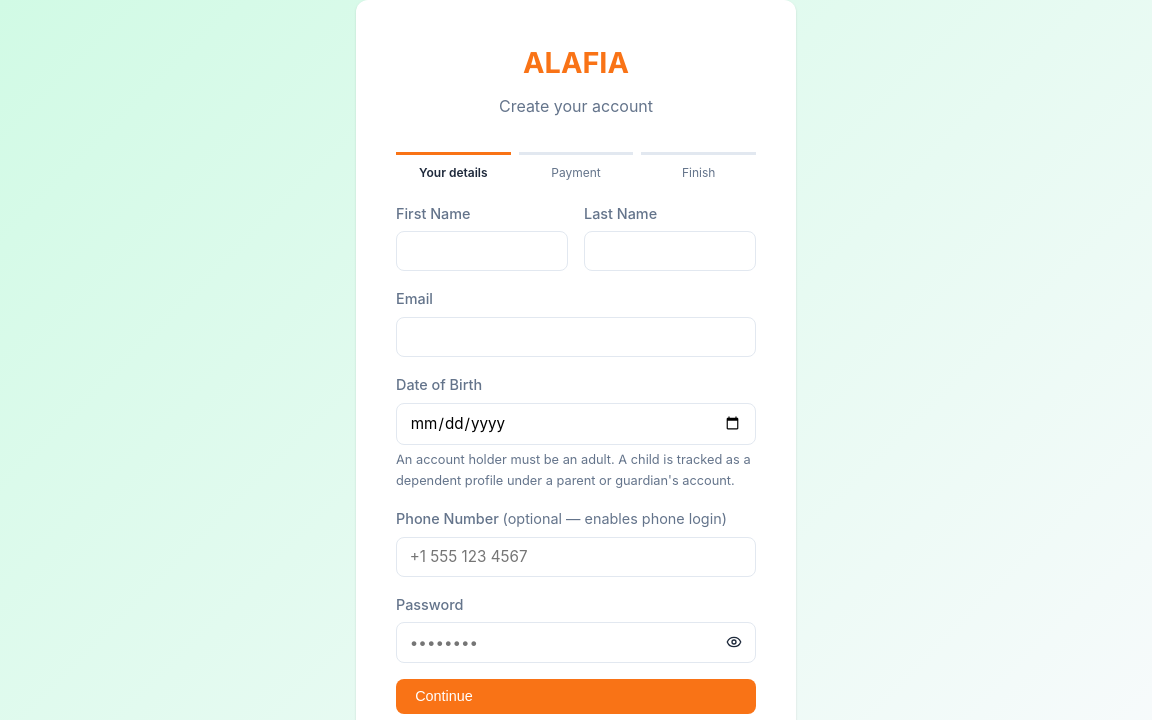
Test: signing up with an address that already has an account › shows any other registration error the same way, minus the sign-in route
The image size is (1152, 720).
Type "Ada" into the field with id "su-first" at (482, 251), box [396,231,568,272]
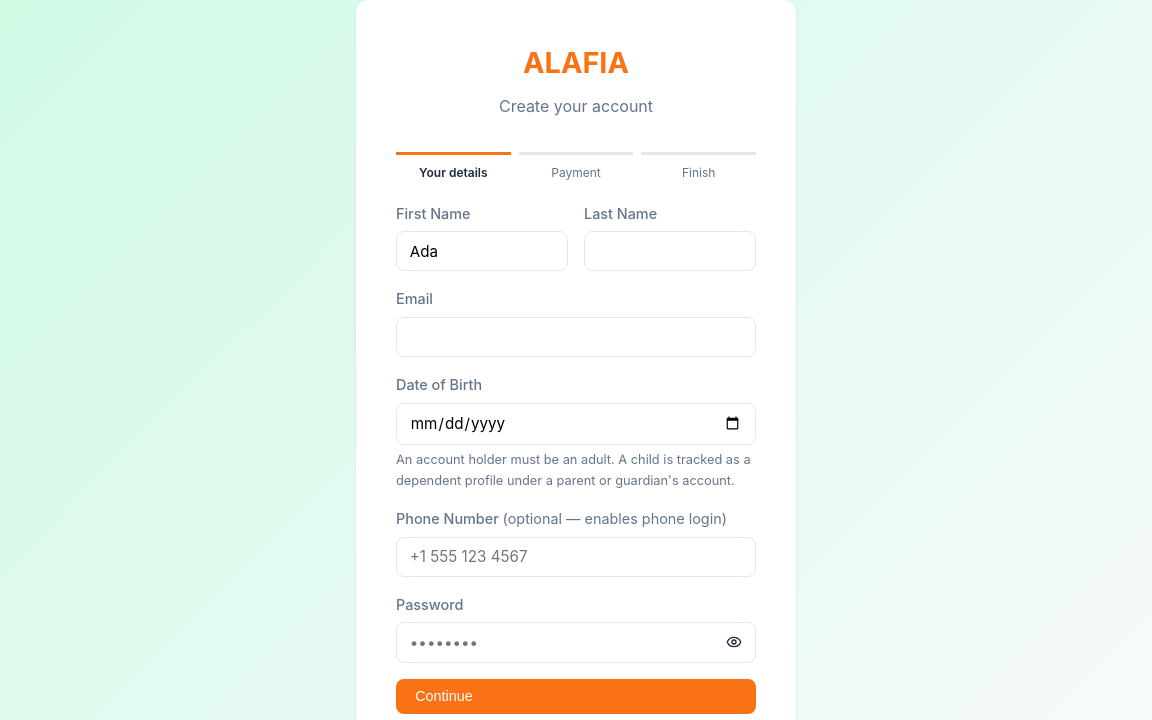
Type "Demo" into the field with id "su-last" at (670, 251), box [584,231,756,272]
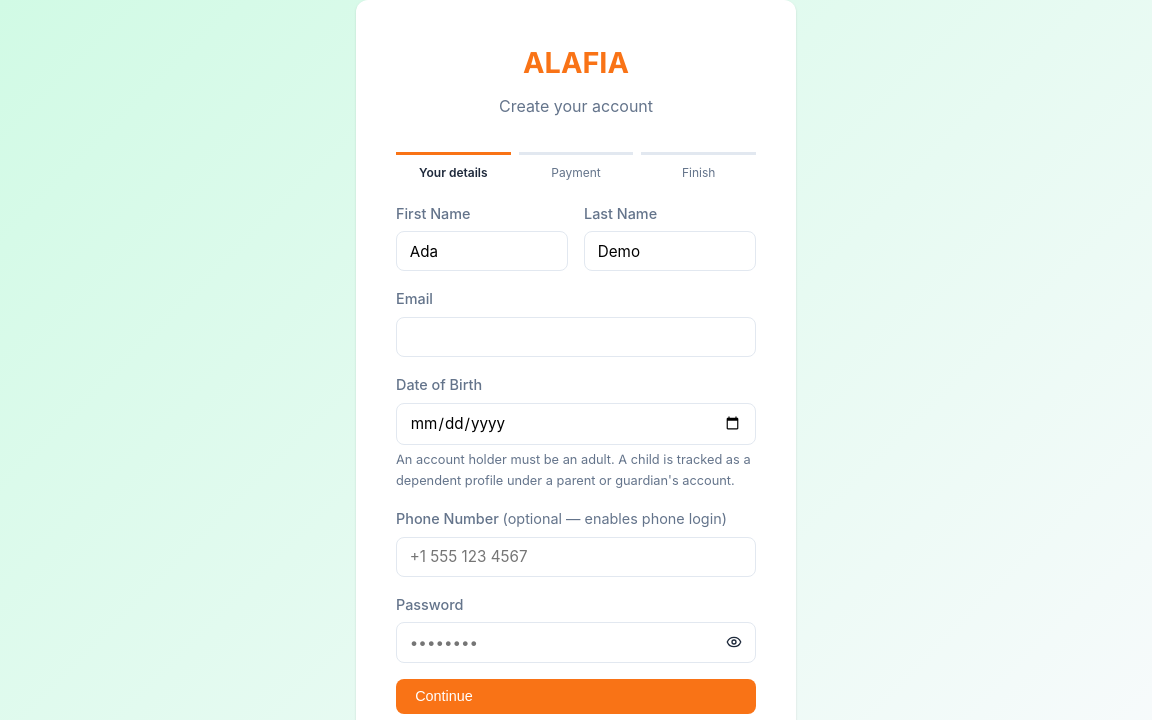
Type "ada@example.com" into the field with id "su-email" at (576, 337), box [396,317,756,357]
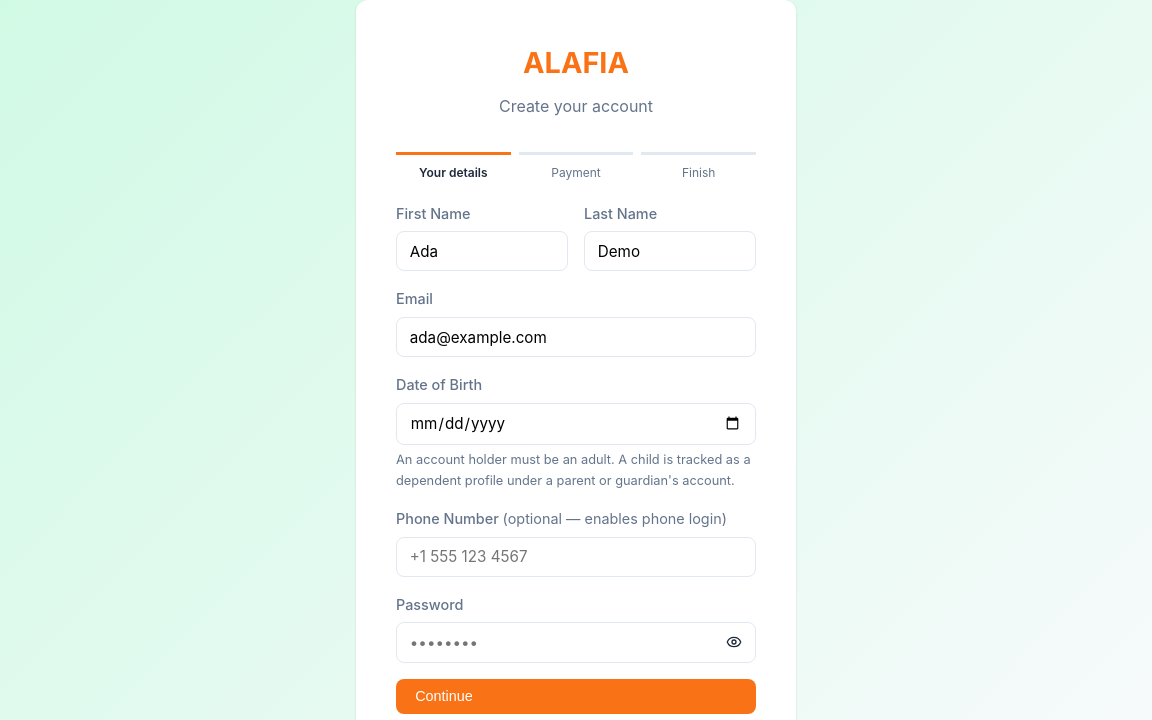
Type "1980-01-01" into the date field with id "su-dob" at (576, 424), box [396,402,756,445]
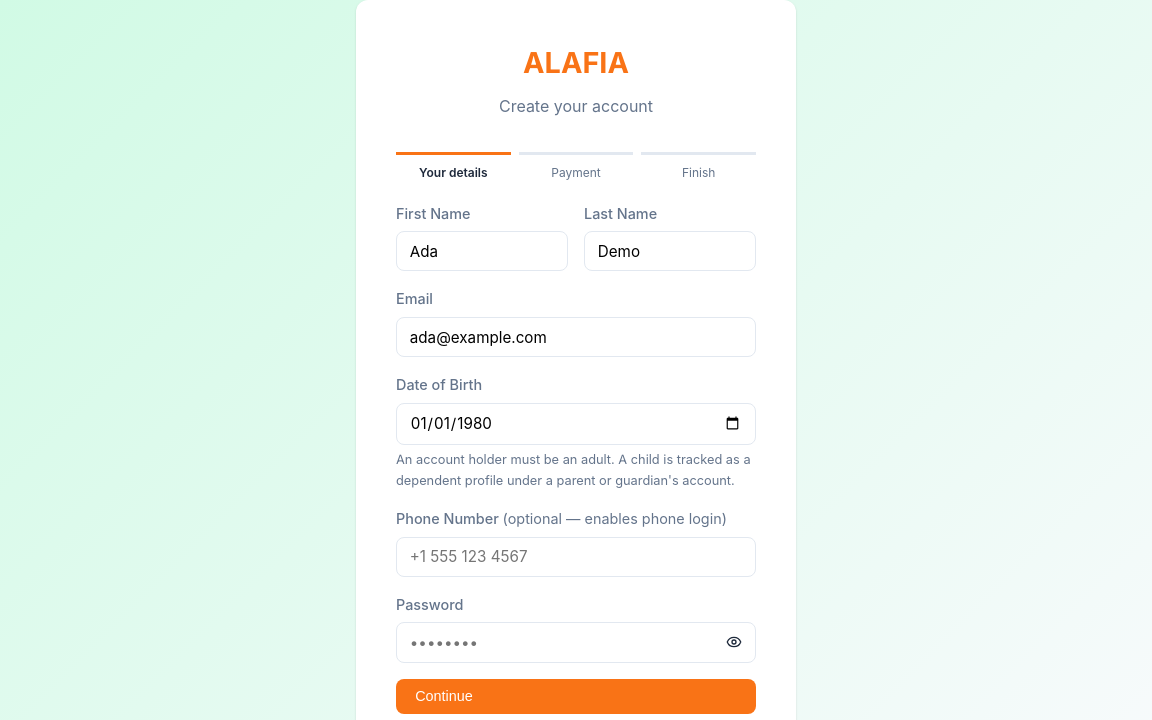
Type "a-long-enough-password" into the password field with id "su-password" at (576, 642), box [396,622,756,662]
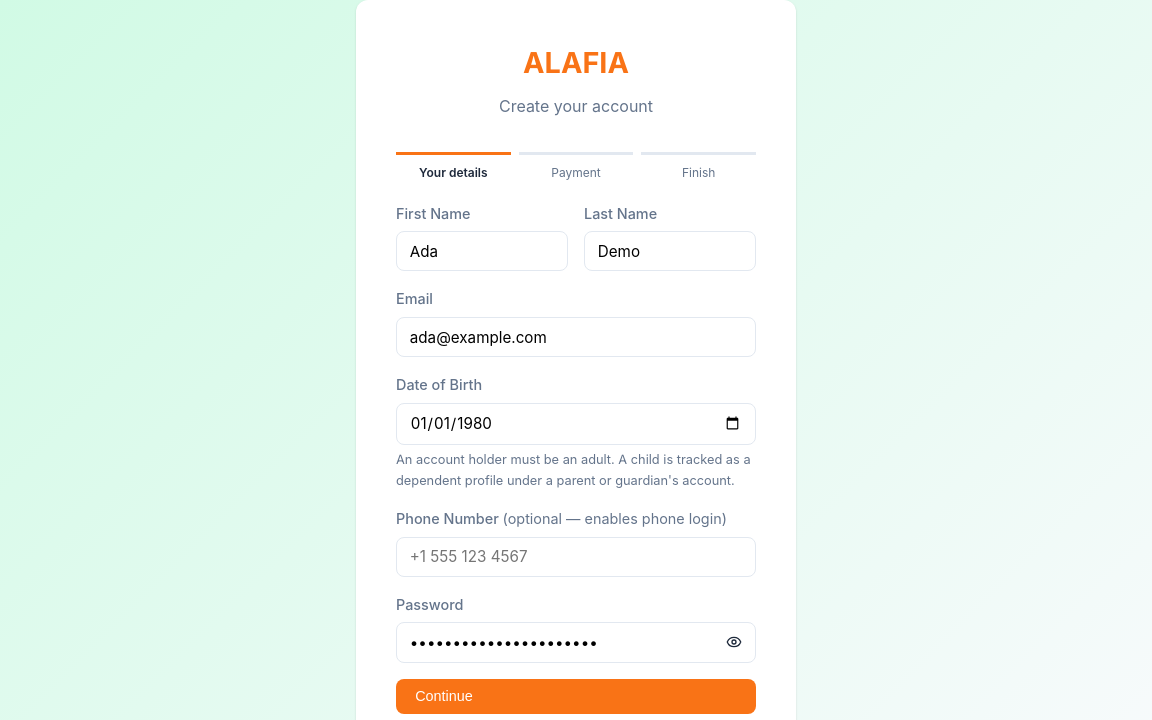
Submit the form, box [396,202,756,714]
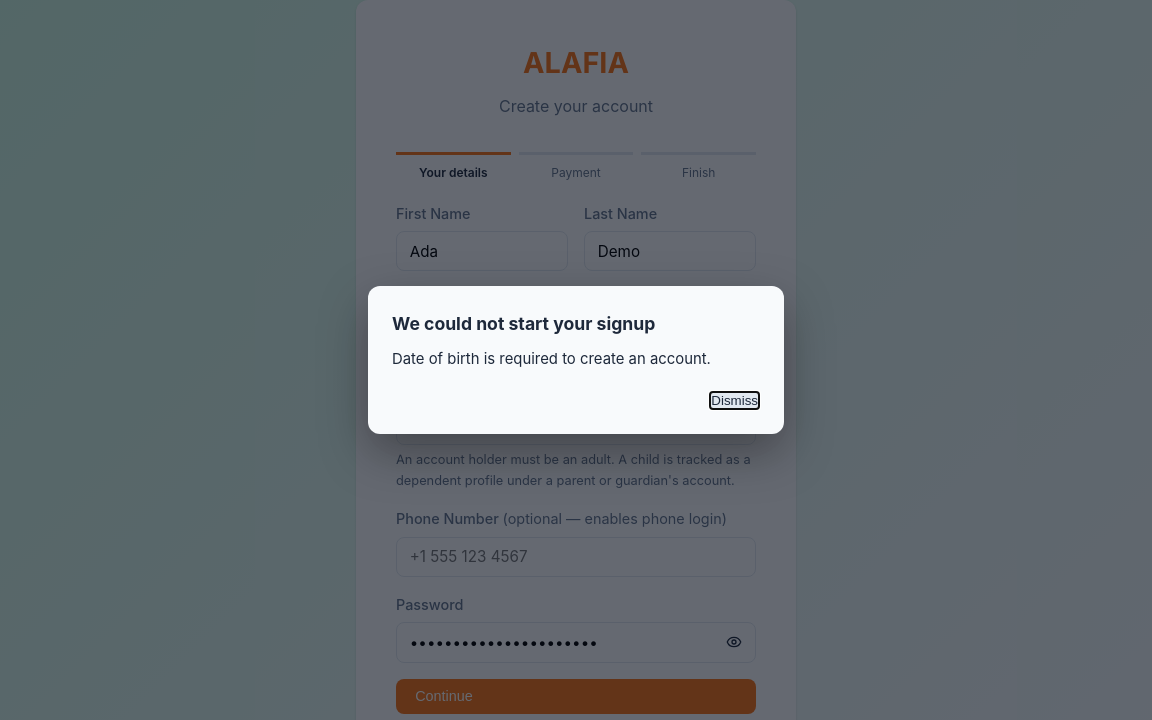
Expected: the dialog shows "Date of birth is required", [392,350,711,368]
